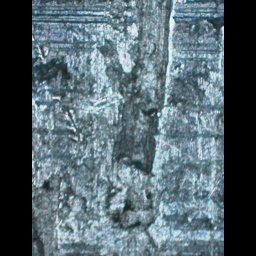d: (93, 0, 182, 235)
